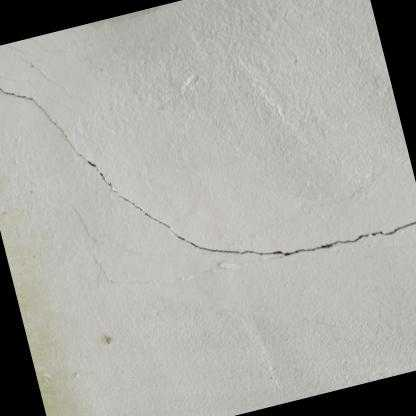crack: (0, 88, 416, 257)
